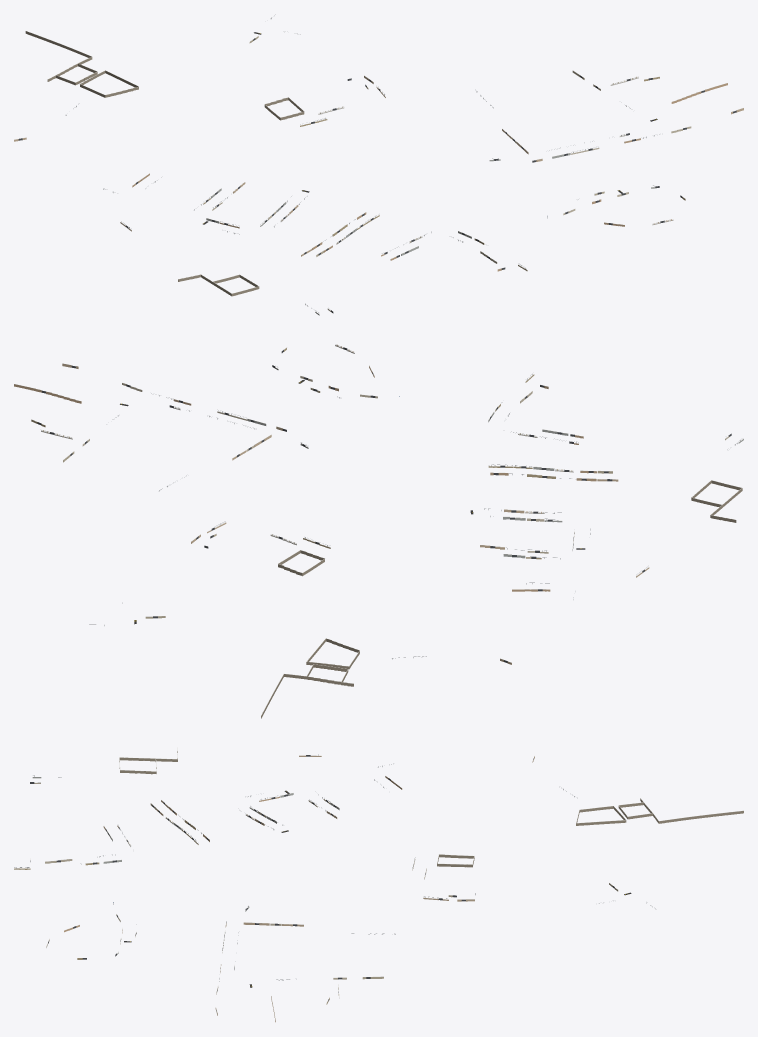
3 views of the same model, one above another, from view 1: azimuth 30°, elevation 25°; view 2: azimuth 150°, elevation 25°; view 3: azimuth 270°, elevation 25° (orthographic). The views are drawn at different scales.
Visible parts, largest first — view 1: nd_st_m14_m12_lod0; view 2: nd_st_m14_m12_lod0; view 3: nd_st_m14_m12_lod0.
Part boxes in pixels (x1,y1,x2,y2): nd_st_m14_m12_lod0: (14,14,743,315); nd_st_m14_m12_lod0: (14,344,743,718); nd_st_m14_m12_lod0: (14,747,743,1022).
Size of what is drawn, in the model's own units: 523 by 15.91 by 564.
